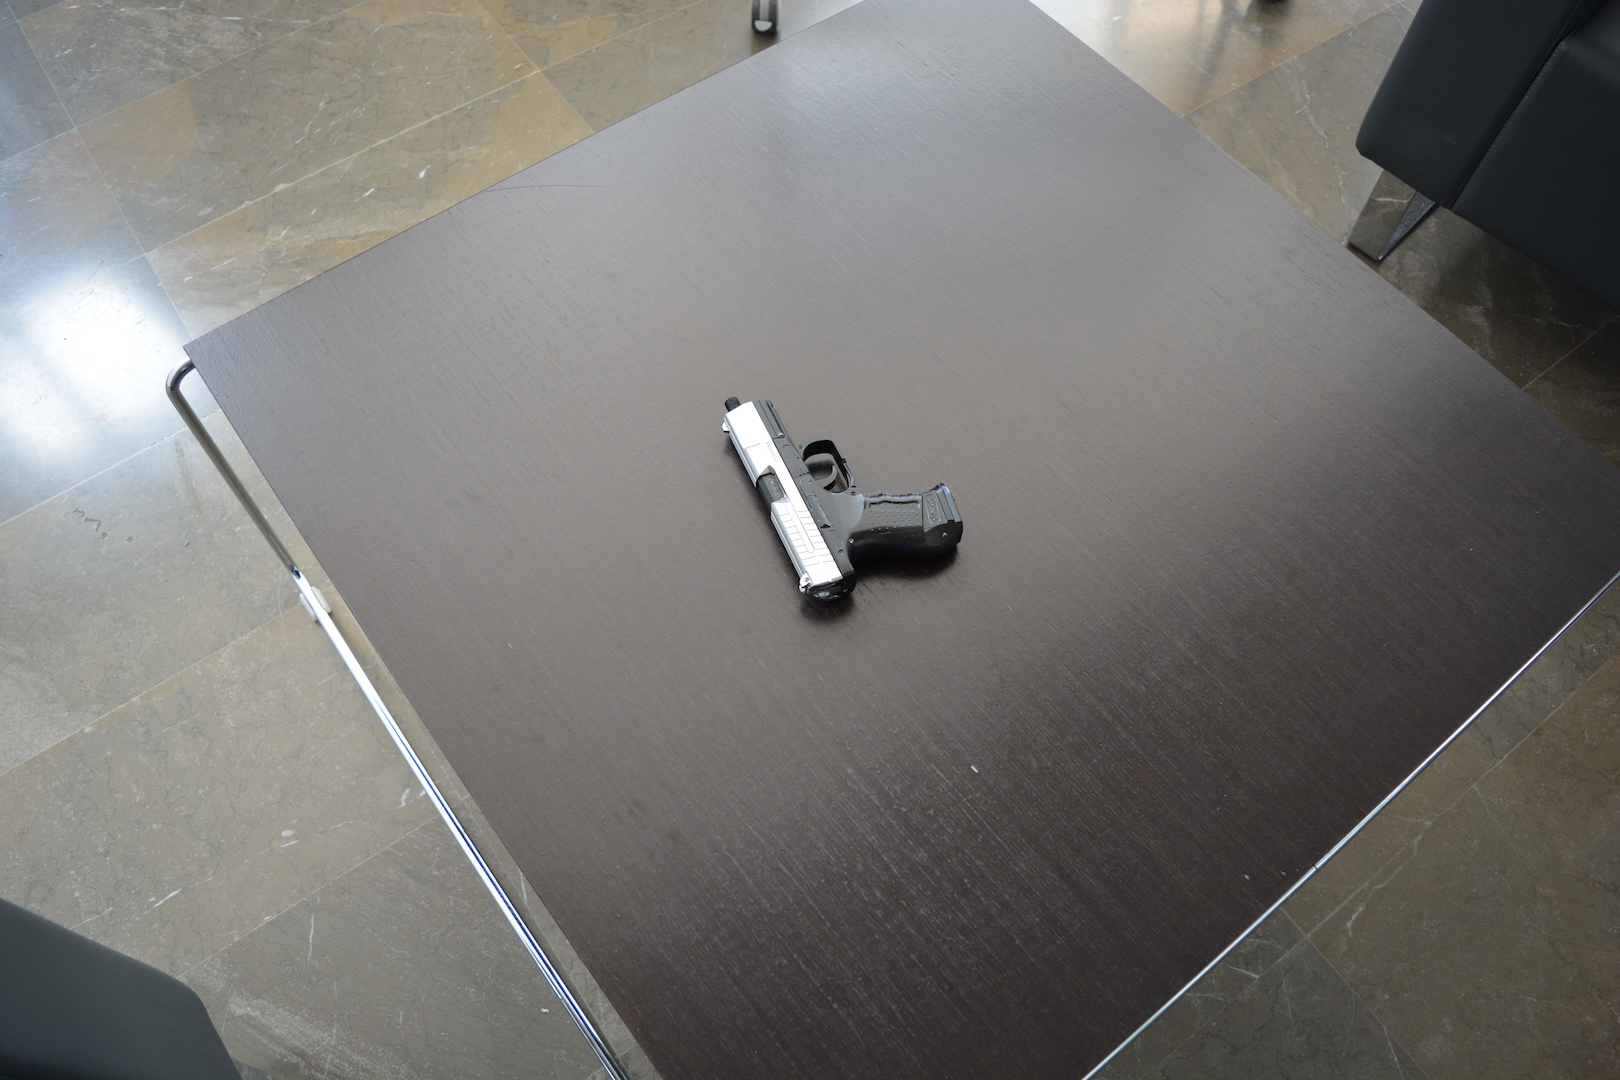pistol: (722, 397, 965, 605)
